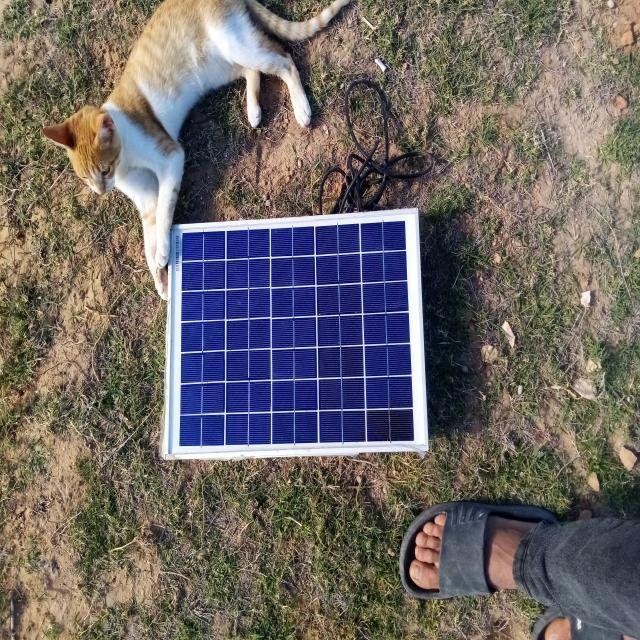no faulty: (158, 211, 425, 455)
